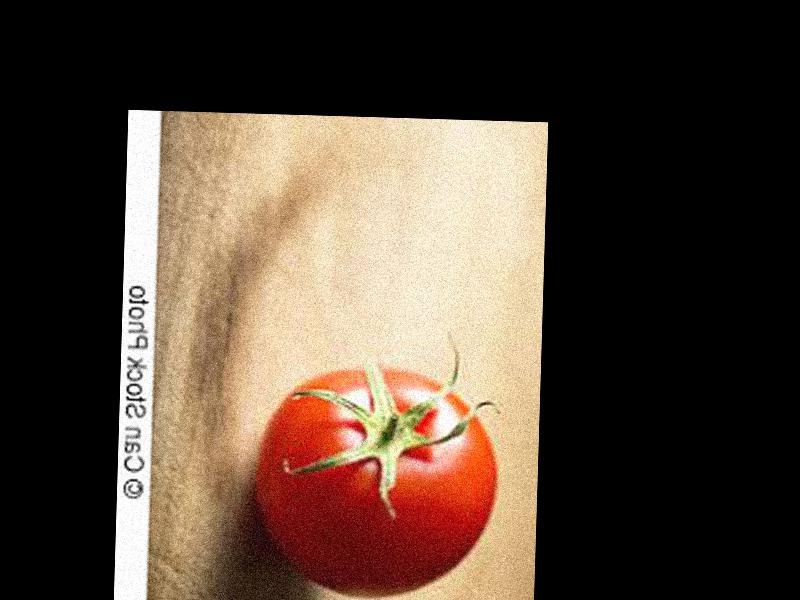Tomato: (254, 361, 496, 599)
